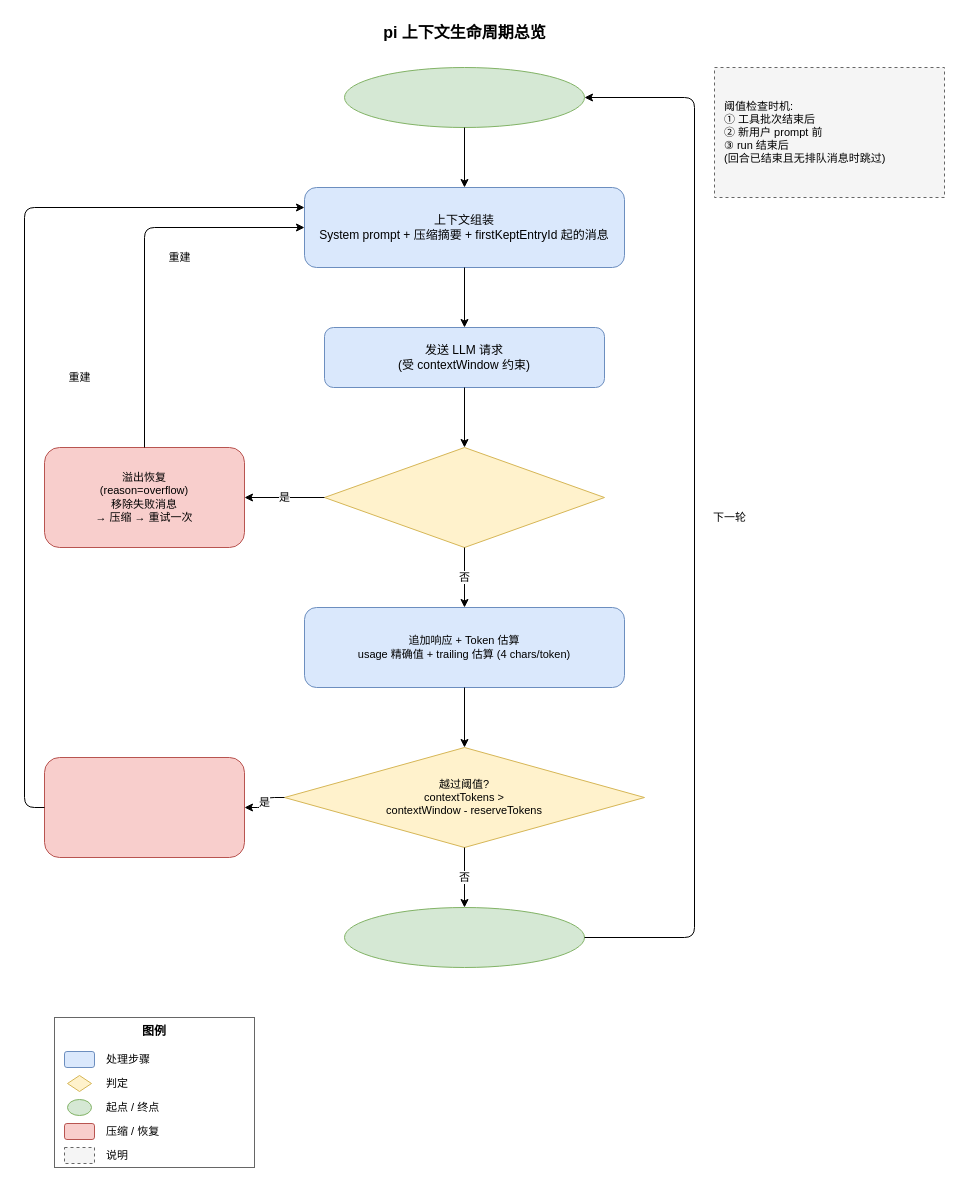
Image size: 962x1185. Some labels were removed from this diagram. Each missing label, with the box of its shape:
溢出错误? (25+ provider 正则 + 静默溢出检测): (324, 446, 604, 548)
用户输入 / 工具结果追加: (344, 66, 584, 128)
继续本轮 / 等待下一输入: (344, 906, 584, 968)
自动压缩 (reason=threshold) 内部流程见图 2: (44, 756, 244, 858)
